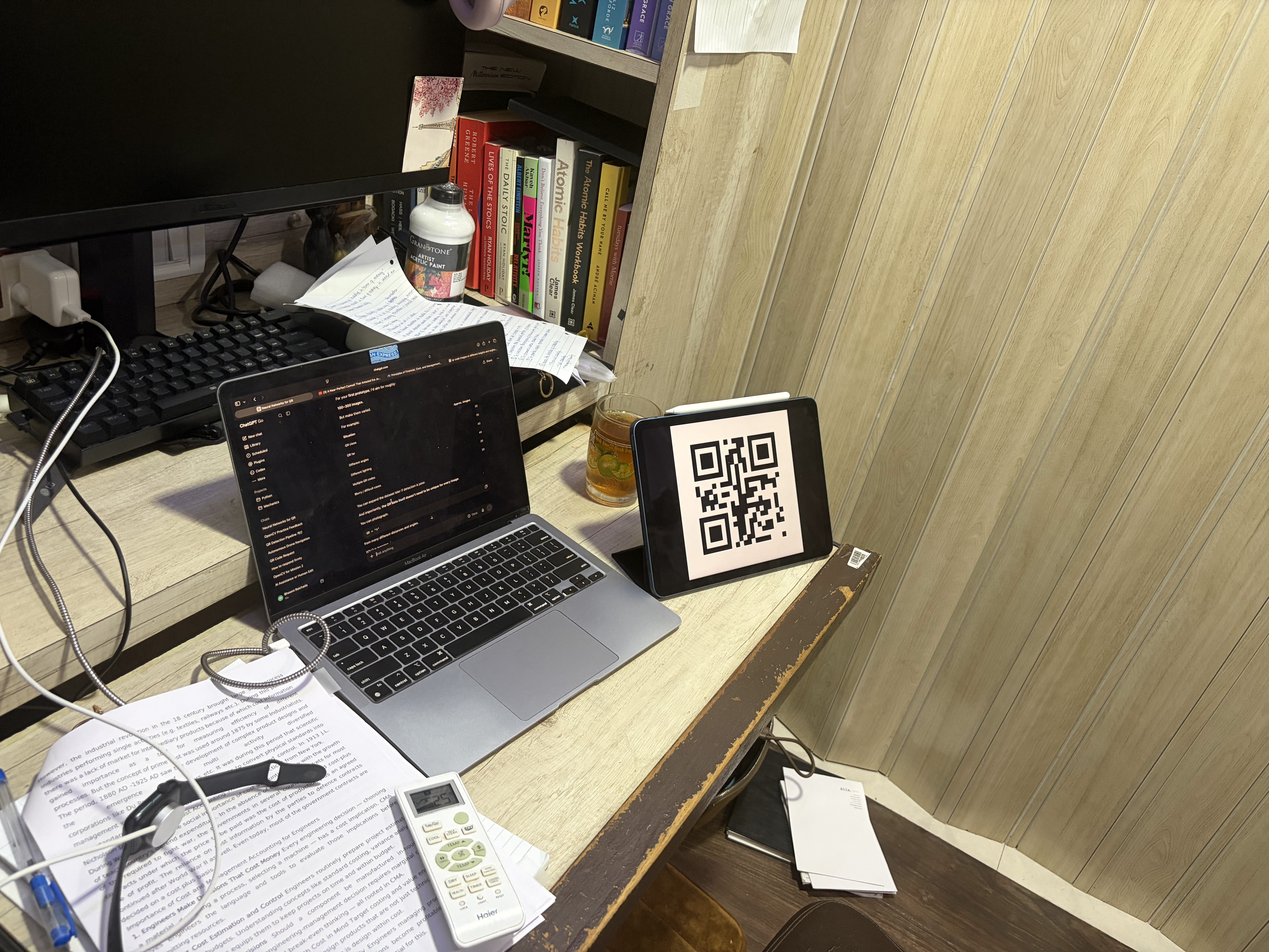QR: (675, 432, 809, 560)
